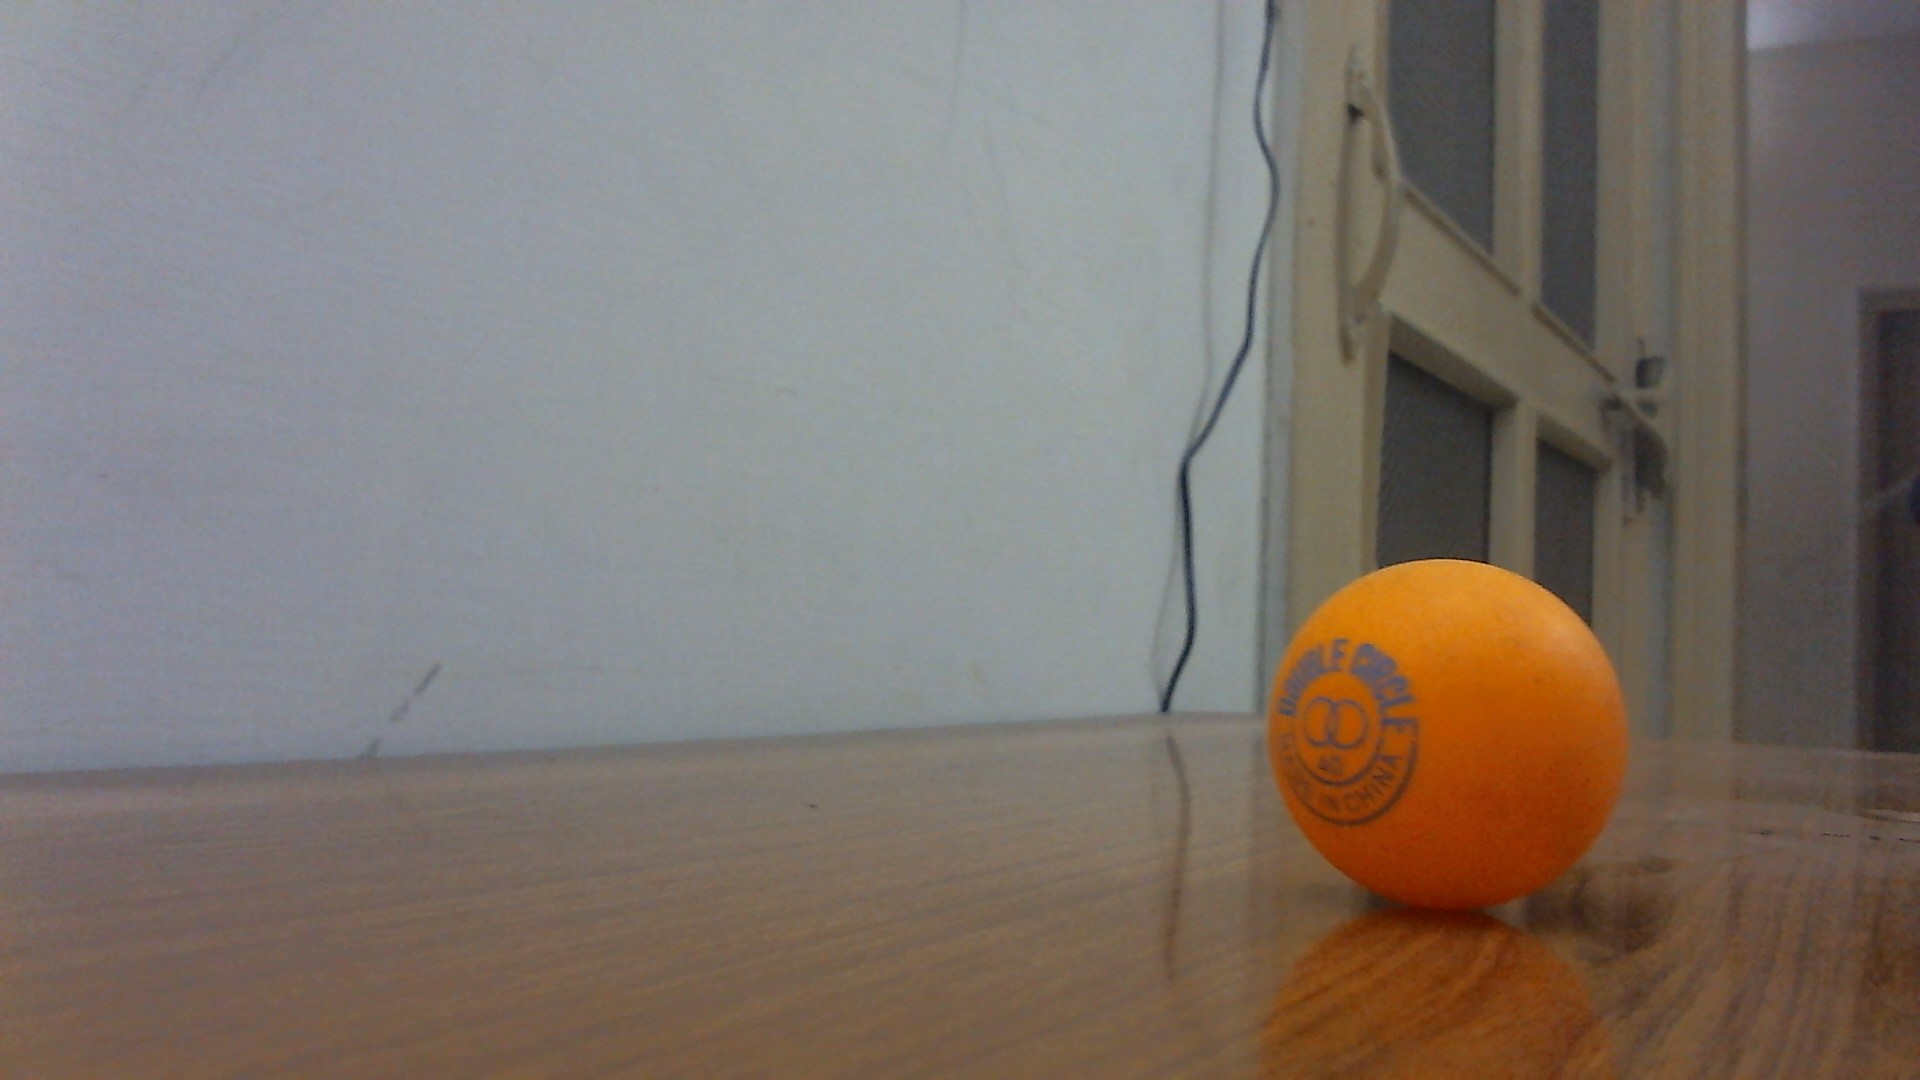ball: (1265, 556, 1631, 913)
